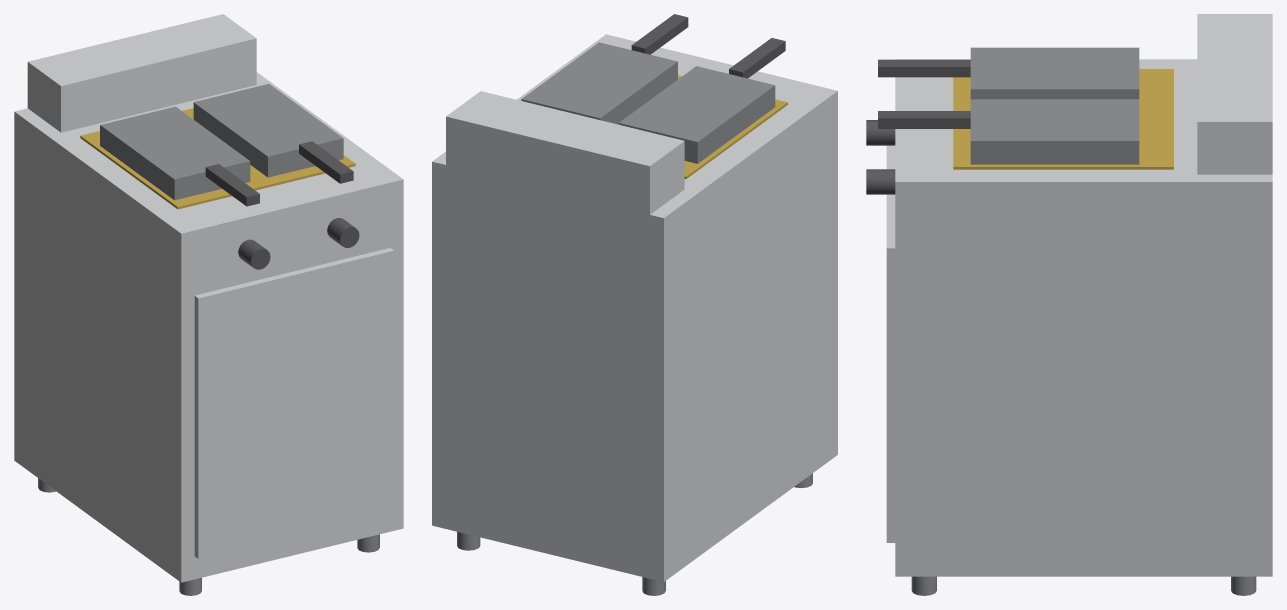
File: deep-fryer-01.glb
3 views of the same model, side by side, from view 1: azimuth 30°, elevation 25°; view 2: azimuth 150°, elevation 25°; view 3: azimuth 270°, elevation 25° (orthographic). The views are drawn at different scales.
Parts seen in each view (by area): view 1: cabinet, door, flue, baskets, oil-well, basket-handles, knobs, feet; view 2: cabinet, flue, baskets, basket-handles, oil-well, feet; view 3: cabinet, baskets, flue, oil-well, door, basket-handles, knobs, feet.
Part boxes in pixels (bbox=[...]): cabinet: bbox=[14, 72, 403, 582]; door: bbox=[194, 248, 393, 558]; flue: bbox=[27, 14, 256, 132]; baskets: bbox=[100, 84, 343, 200]; oil-well: bbox=[80, 108, 355, 209]; basket-handles: bbox=[205, 141, 353, 206]; knobs: bbox=[238, 218, 359, 269]; feet: bbox=[38, 478, 379, 595]; cabinet: bbox=[432, 34, 837, 581]; flue: bbox=[446, 91, 684, 214]; baskets: bbox=[521, 42, 775, 163]; basket-handles: bbox=[631, 14, 785, 78]; oil-well: bbox=[678, 75, 787, 178]; feet: bbox=[457, 473, 812, 595]; cabinet: bbox=[895, 59, 1272, 576]; baskets: bbox=[970, 47, 1139, 164]; flue: bbox=[1197, 14, 1272, 174]; oil-well: bbox=[953, 69, 1173, 169]; door: bbox=[886, 145, 895, 542]; basket-handles: bbox=[878, 59, 970, 128]; knobs: bbox=[866, 120, 895, 194]; feet: bbox=[911, 576, 1256, 595].
Size of the model in its own units: 0.5 by 0.9 by 0.7.
